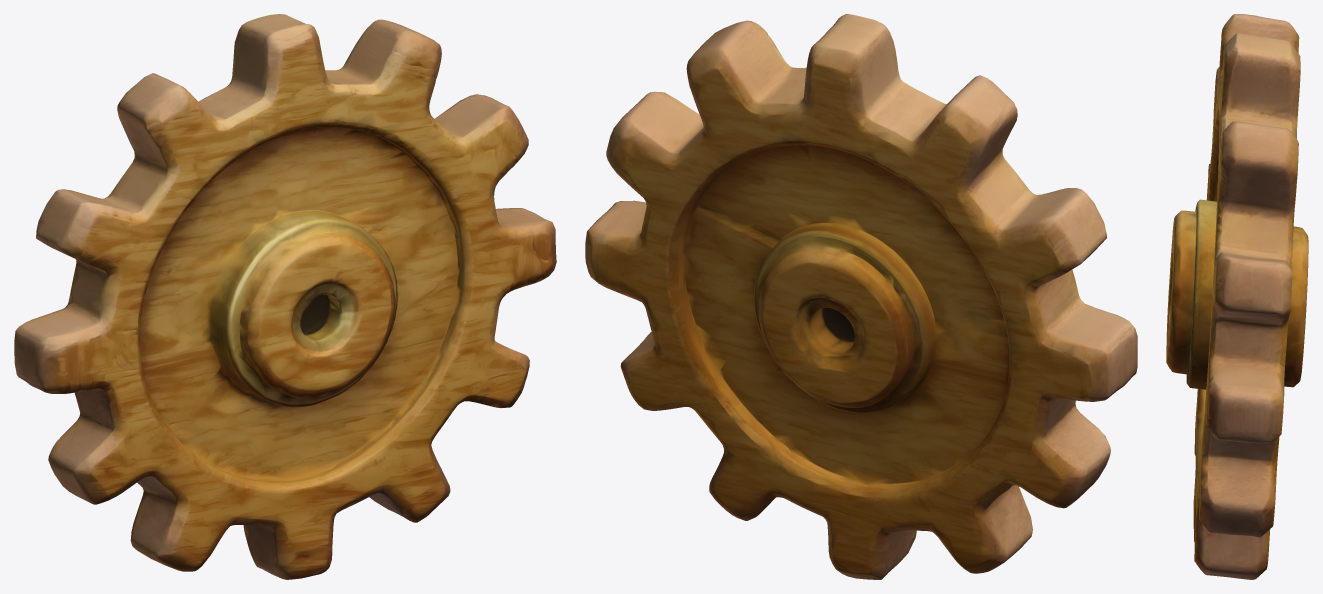
File: theatre_gear.glb
3 renders of one model, left to right at view 1: azimuth 30°, elevation 25°; view 2: azimuth 150°, elevation 25°; view 3: azimuth 270°, elevation 25°, orthographic. The views are drawn at different scales.
Parts seen in each view (by area): view 1: tripo_node_d3e4a606-5b79-4ce9-aa65-62bc8c7531ac; view 2: tripo_node_d3e4a606-5b79-4ce9-aa65-62bc8c7531ac; view 3: tripo_node_d3e4a606-5b79-4ce9-aa65-62bc8c7531ac.
Part boxes in pixels (left/top/right/bottom): tripo_node_d3e4a606-5b79-4ce9-aa65-62bc8c7531ac: left=14, top=14, right=556, bottom=579; tripo_node_d3e4a606-5b79-4ce9-aa65-62bc8c7531ac: left=585, top=14, right=1137, bottom=579; tripo_node_d3e4a606-5b79-4ce9-aa65-62bc8c7531ac: left=1166, top=14, right=1308, bottom=579.
Bounding box in the file's own units: 0.18 × 0.18 × 0.045.
1 material, 1 textured.
